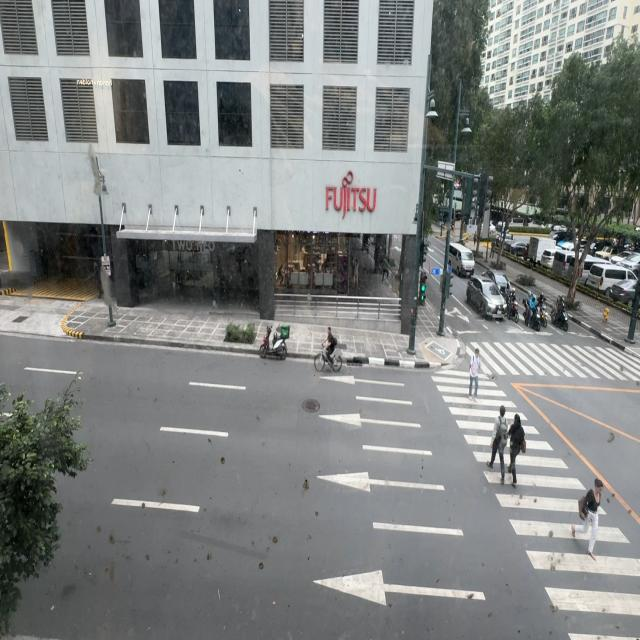crossing: (572, 478, 604, 560), (487, 410, 508, 480), (506, 410, 523, 478), (469, 349, 482, 394)
pedestrain: (94, 260, 102, 299)
